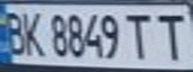4: (81, 10, 103, 60)
8: (45, 9, 69, 58), (63, 10, 84, 58)
9: (100, 10, 127, 60)
B: (0, 7, 30, 56)
K: (18, 7, 45, 57)
T: (151, 9, 193, 62), (121, 9, 157, 61)
